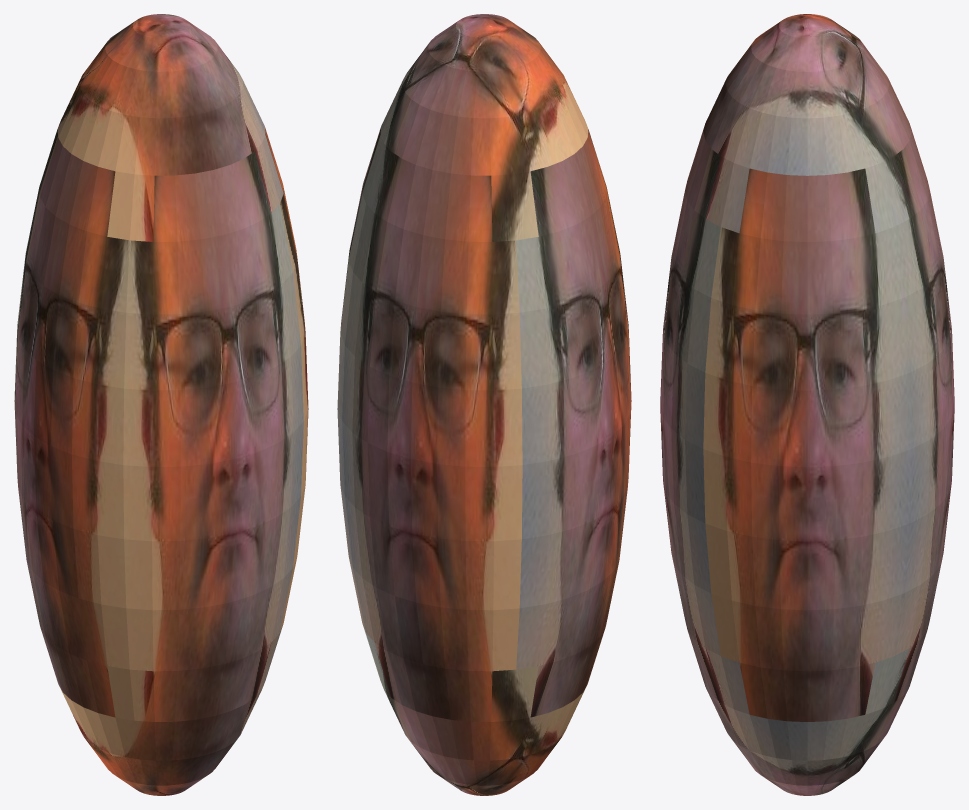
Rendered from gitti.dae.
The picture shows the model from 3 angles, left to right: view 1: azimuth 30°, elevation 25°; view 2: azimuth 150°, elevation 25°; view 3: azimuth 270°, elevation 25°; orthographic projection.
Parts seen in each view (by area): view 1: Sphere; view 2: Sphere; view 3: Sphere.
Boxes of the visible parts, left/top/right/bottom form: Sphere: left=14, top=14, right=308, bottom=795; Sphere: left=337, top=14, right=631, bottom=795; Sphere: left=660, top=14, right=954, bottom=795.
Size of the model in its own units: 2 by 2 by 5.79.
